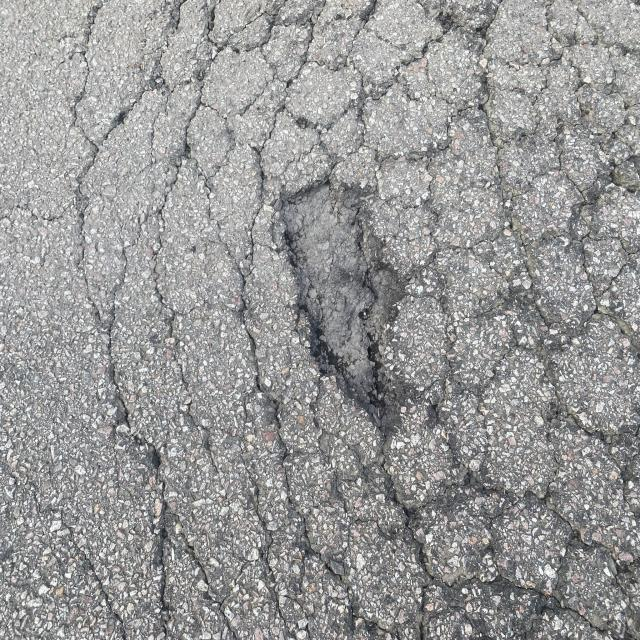pothole: (248, 142, 472, 506)
